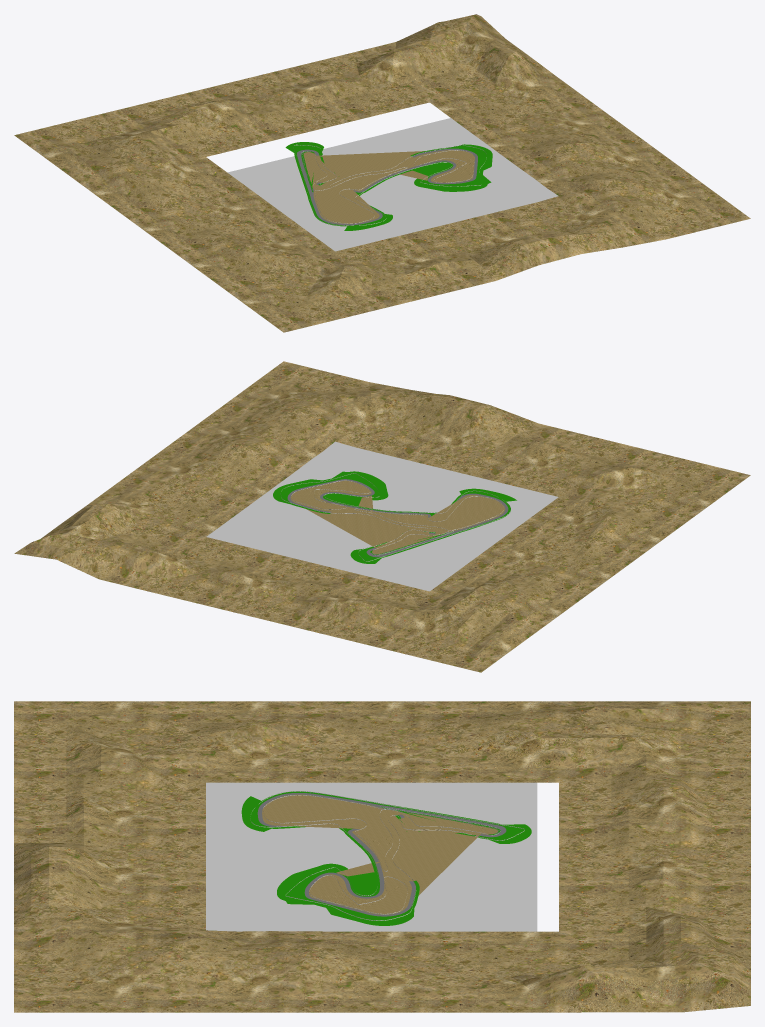
The model's file is zandvoorttest.fbx.
The picture shows the model from 3 angles, top to bottom: view 1: azimuth 30°, elevation 25°; view 2: azimuth 150°, elevation 25°; view 3: azimuth 270°, elevation 25°; orthographic projection. The views are drawn at different scales.
Visible parts, largest first — view 1: envoiroment, zandvoort, insidetrack, Road.001, Road, Barrier; view 2: envoiroment, zandvoort, insidetrack, Road.001, Road, Barrier; view 3: envoiroment, zandvoort, insidetrack, Road.001, Road, Barrier.
Part boxes in pixels (x1=…): envoiroment: x1=14, y1=14, x2=750, y2=332; zandvoort: x1=227, y1=118, x2=558, y2=251; insidetrack: x1=303, y1=150, x2=474, y2=223; Road.001: x1=285, y1=142, x2=492, y2=230; Road: x1=297, y1=148, x2=477, y2=225; Barrier: x1=293, y1=144, x2=486, y2=225; envoiroment: x1=14, y1=361, x2=750, y2=672; zandvoort: x1=206, y1=441, x2=558, y2=591; insidetrack: x1=290, y1=480, x2=505, y2=554; Road.001: x1=273, y1=471, x2=516, y2=563; Road: x1=287, y1=479, x2=508, y2=557; Barrier: x1=280, y1=473, x2=510, y2=561; envoiroment: x1=14, y1=701, x2=750, y2=1012; zandvoort: x1=206, y1=782, x2=537, y2=931; insidetrack: x1=262, y1=794, x2=497, y2=914; Road.001: x1=241, y1=791, x2=531, y2=925; Road: x1=257, y1=793, x2=506, y2=916; Barrier: x1=250, y1=791, x2=524, y2=920.
Bounding box in the file's own units: 2599 × 172 × 2599.
